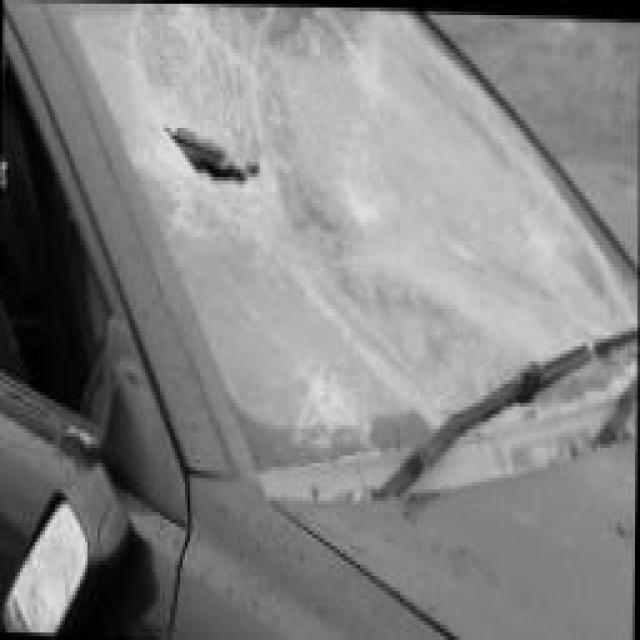Windshield: (56, 1, 638, 496)
